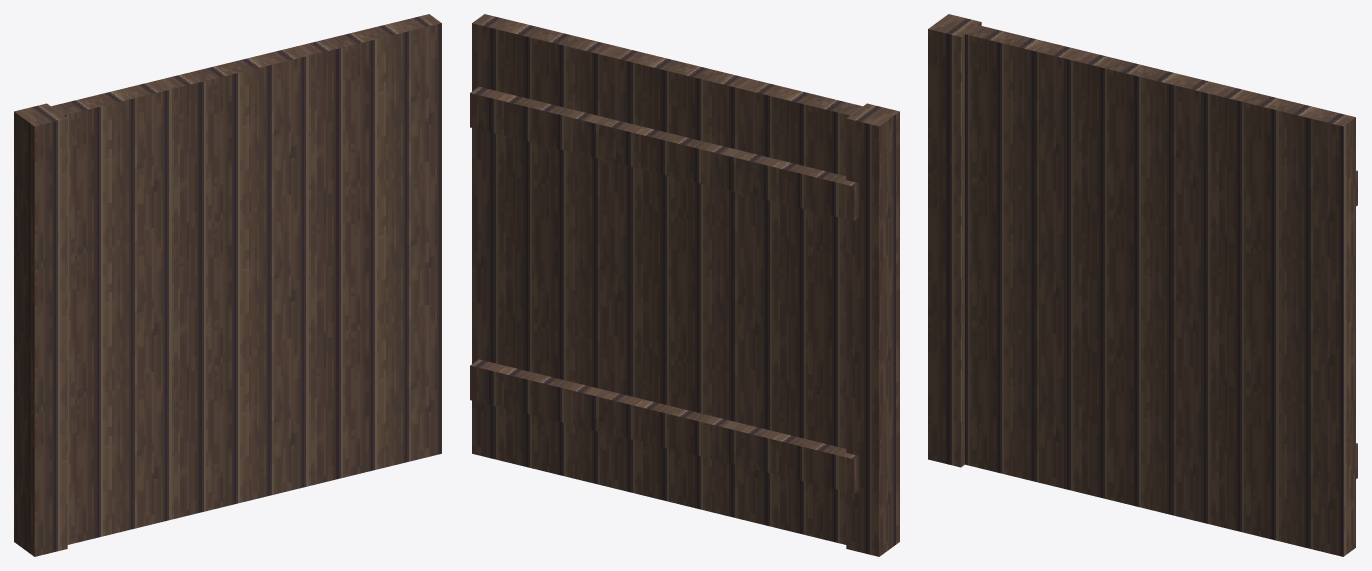
Rendered from gate_leaf_open.glb.
3 views of the same model, side by side, from view 1: azimuth 30°, elevation 25°; view 2: azimuth 150°, elevation 25°; view 3: azimuth 330°, elevation 25° (orthographic).
Parts seen in each view (by area): view 1: gate_leaf_open; view 2: gate_leaf_open; view 3: gate_leaf_open.
Boxes of the visible parts, x1=… form: gate_leaf_open: x1=14, y1=14, x2=441, y2=556; gate_leaf_open: x1=470, y1=14, x2=899, y2=556; gate_leaf_open: x1=928, y1=14, x2=1357, y2=556.
Bounding box in the file's own units: 3 × 3 × 0.32.
Materials: 1 (1 with a texture image).
